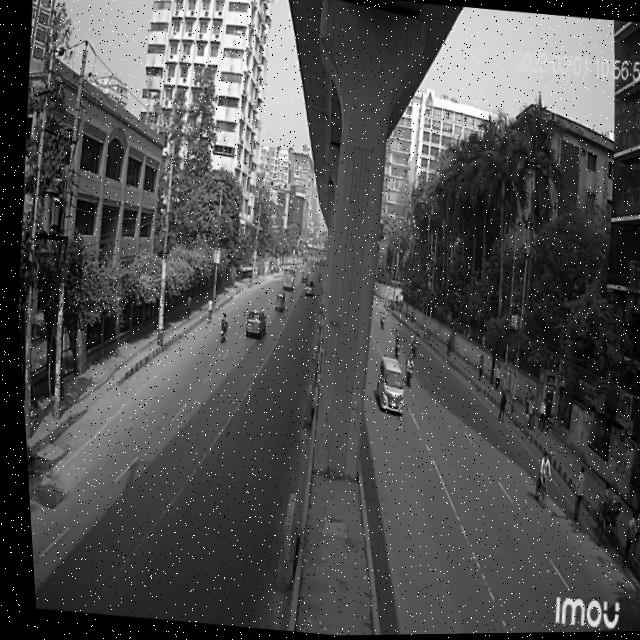cng: (268, 288, 283, 316)
rikshaw: (574, 482, 626, 557)
